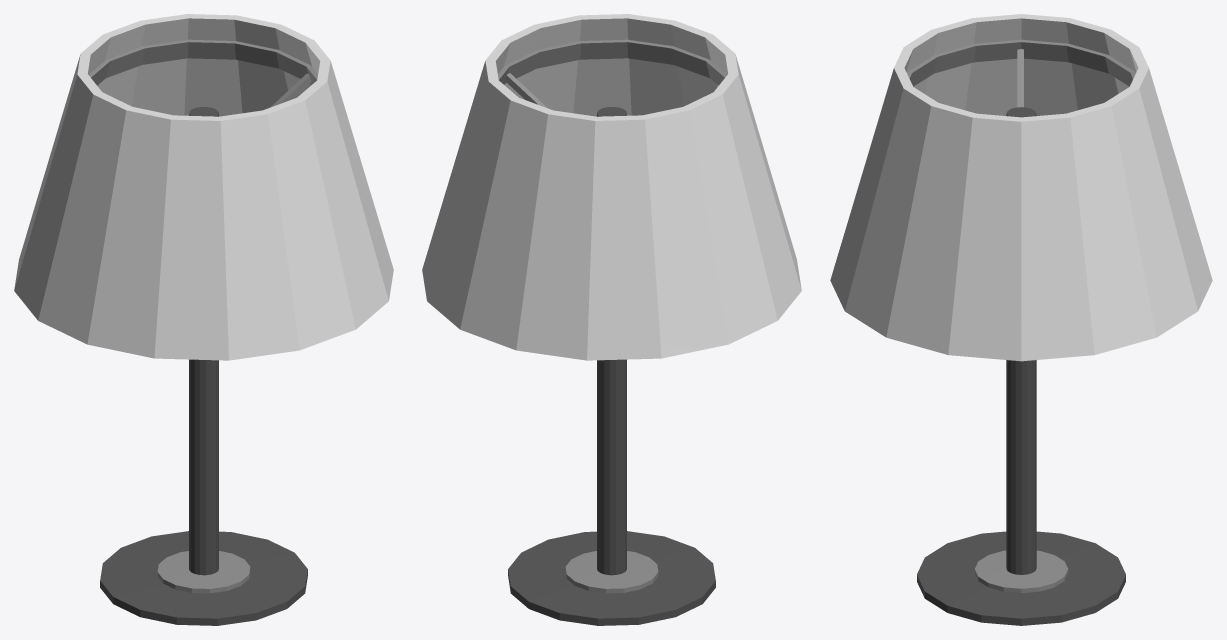
Rendered from lamp small.fbx.
3 renders of one model, left to right at view 1: azimuth 30°, elevation 25°; view 2: azimuth 150°, elevation 25°; view 3: azimuth 270°, elevation 25°, orthographic.
Parts seen in each view (by area): view 1: lamp small; view 2: lamp small; view 3: lamp small.
Boxes of the visible parts, bbox=[...] form: lamp small: bbox=[14, 14, 393, 625]; lamp small: bbox=[422, 14, 801, 625]; lamp small: bbox=[830, 14, 1212, 625].
Bounding box in the file's own units: 18.32 × 27.16 × 18.32.
Materials: 1 (1 with a texture image).
